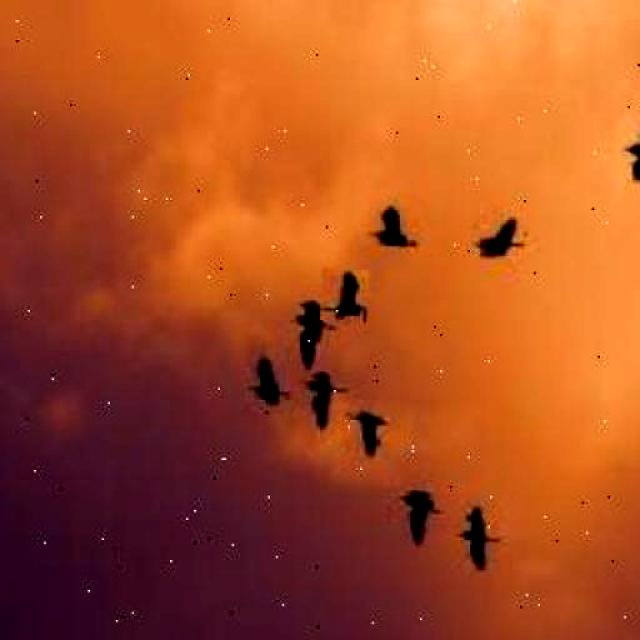airplane: (288, 299, 339, 372), (299, 369, 349, 432), (458, 504, 504, 572), (396, 489, 442, 549), (320, 269, 368, 322), (248, 355, 295, 409), (474, 215, 528, 261), (370, 204, 422, 250), (344, 410, 390, 460), (621, 118, 640, 188)
